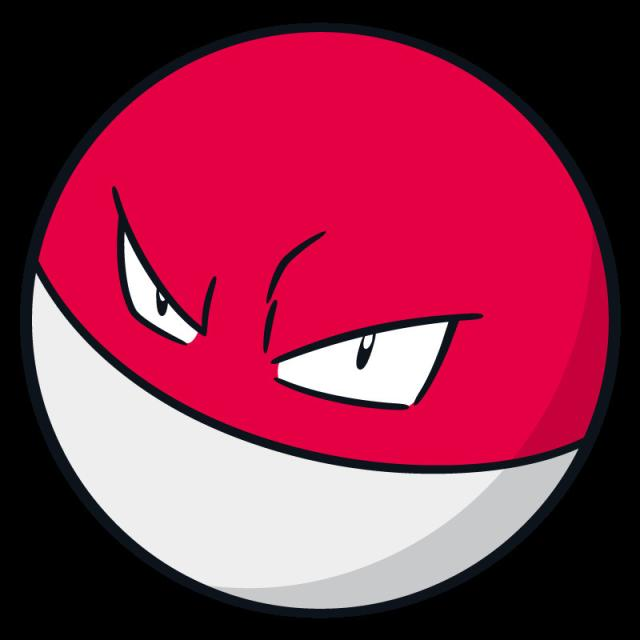Voltorb: (29, 29, 611, 610)
